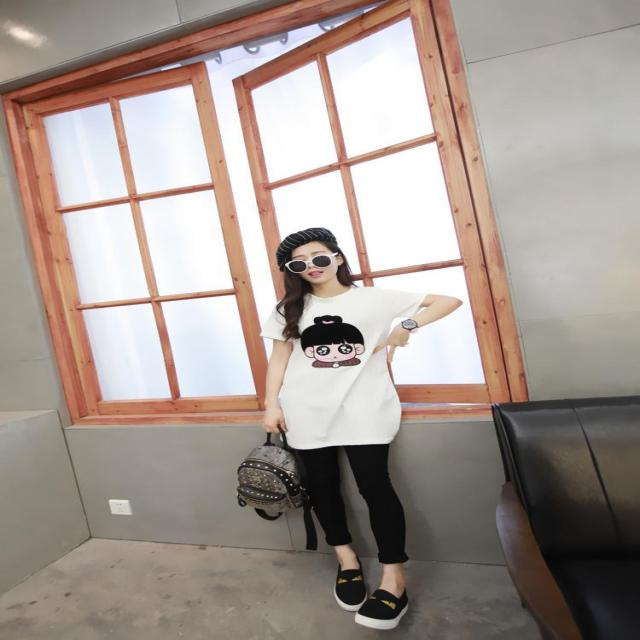short sleeve dress: (260, 286, 428, 445)
trousers: (285, 387, 411, 563)
